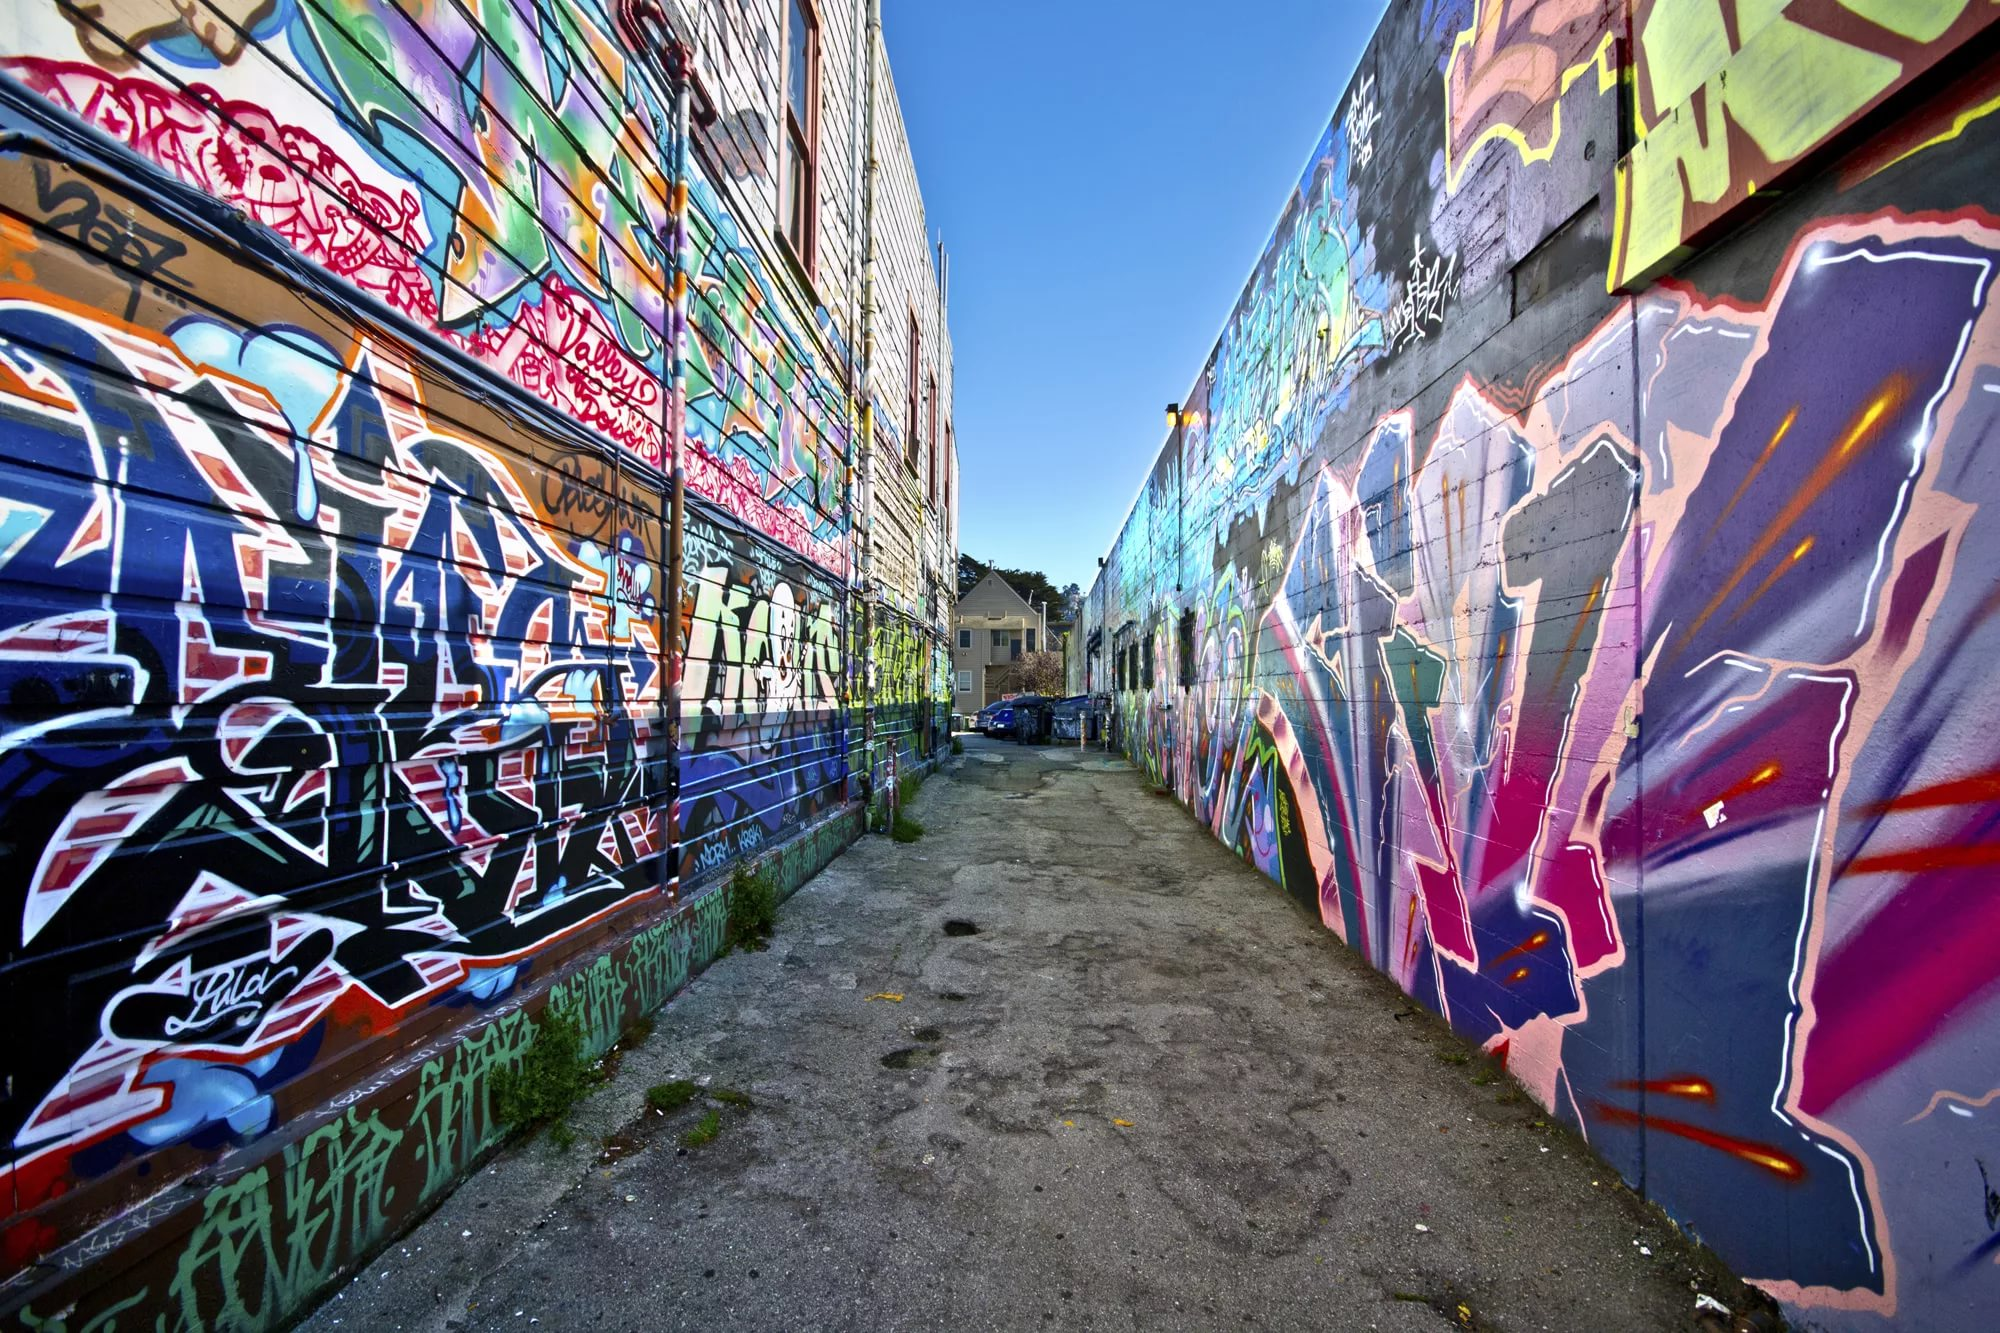graphite: (3, 367, 678, 919), (1642, 289, 2000, 1284), (1343, 437, 1633, 1108), (80, 54, 425, 308), (681, 281, 864, 531), (16, 159, 196, 312), (503, 293, 677, 449), (538, 458, 668, 553), (1331, 98, 1410, 179), (868, 626, 944, 704)
